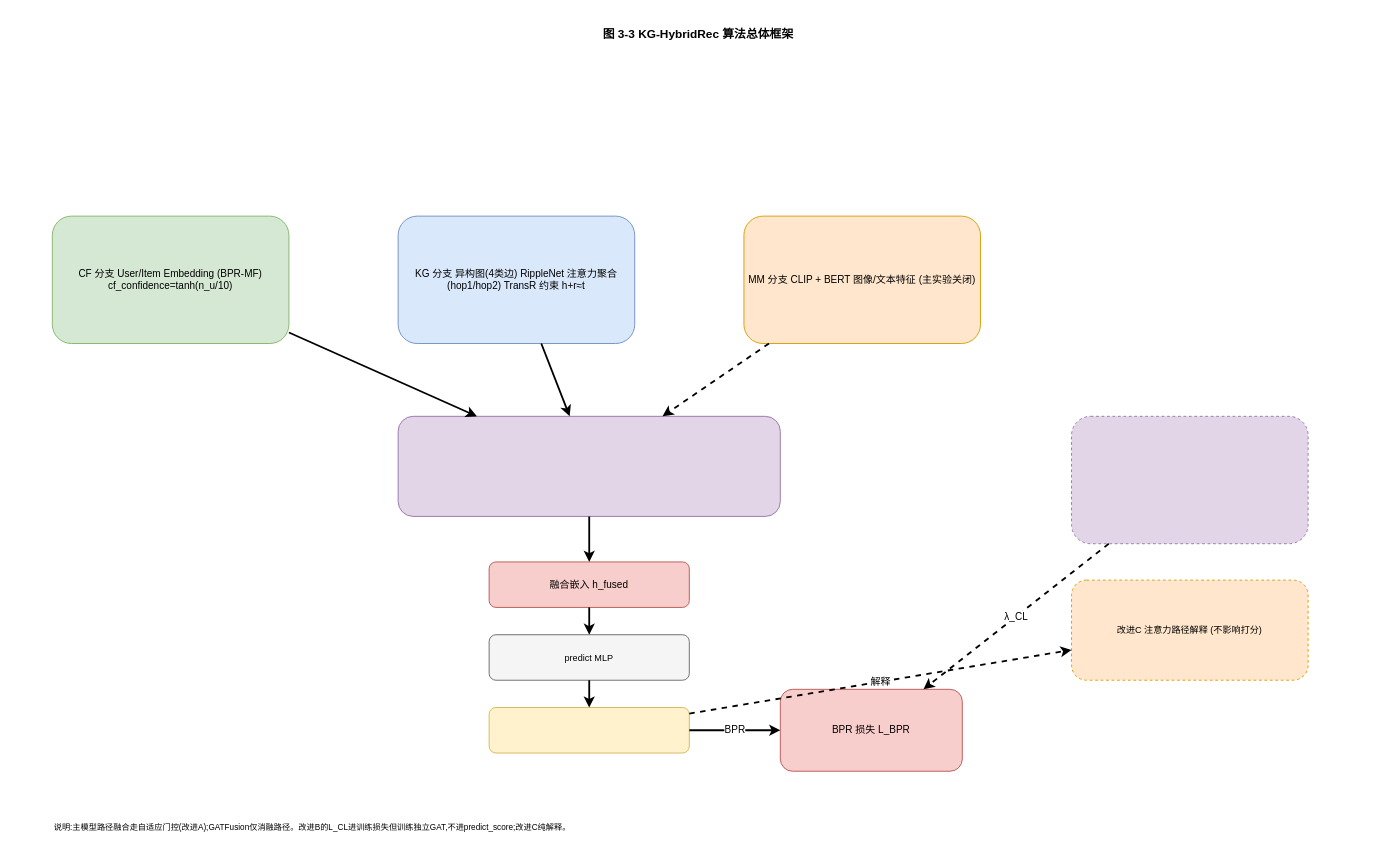
The diagram is 1396 pixels wide and 859 high, and some of its shapes have lost their labels. The shapes that lost their labels are listed below. From the top down, each one's centre as x and y in pixels, then its label:
[588,465]: 自适应门控 CAGF (改进A) softmax 加权 + 冷启动调整
[1189,479]: 改进B 图对比学习 L_CL (训练独立GAT 不进 predict_score)
[588,730]: 匹配分数 ŷ
